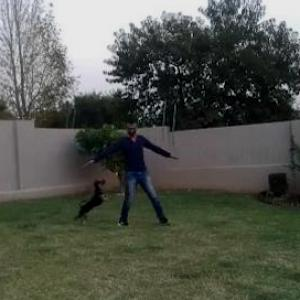land: (83, 119, 183, 237)
